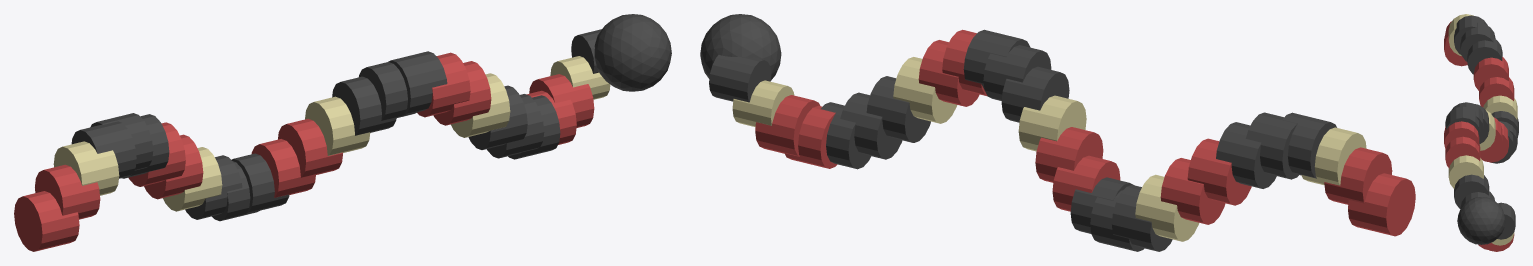
File: coral_snake.glb
3 renders of one model, left to right at view 1: azimuth 30°, elevation 25°; view 2: azimuth 150°, elevation 25°; view 3: azimuth 270°, elevation 25°, orthographic. The views are drawn at different scales.
Parts seen in each view (by area): view 1: world; view 2: world; view 3: world.
Part boxes in pixels (x1,y1,x2,y2): world: [14, 14, 671, 251]; world: [700, 14, 1415, 251]; world: [1444, 14, 1518, 251].
Size of the model in its own units: 4.24 by 0.8791 by 0.68.
